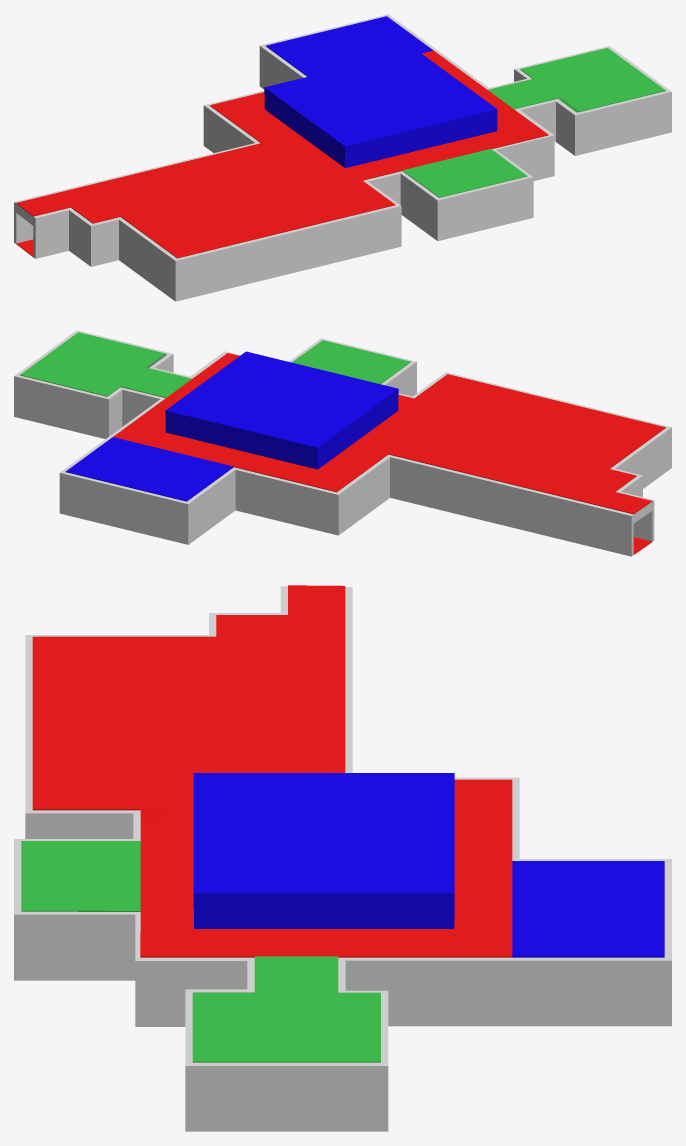
The model's file is layout.fbx.
The picture shows the model from 3 angles, top to bottom: view 1: azimuth 30°, elevation 25°; view 2: azimuth 150°, elevation 25°; view 3: azimuth 270°, elevation 25°; orthographic projection. The views are drawn at different scales.
Parts seen in each view (by area): view 1: ceiling, Walls; view 2: ceiling, Walls; view 3: ceiling, Walls.
Boxes of the visible parts, bbox=[...] form: ceiling: bbox=[16, 16, 665, 258]; Walls: bbox=[14, 14, 671, 301]; ceiling: bbox=[20, 332, 665, 514]; Walls: bbox=[14, 330, 671, 556]; ceiling: bbox=[21, 585, 664, 1062]; Walls: bbox=[14, 586, 671, 1131].
Size of the model in its own units: 4688 by 467 by 2719.
